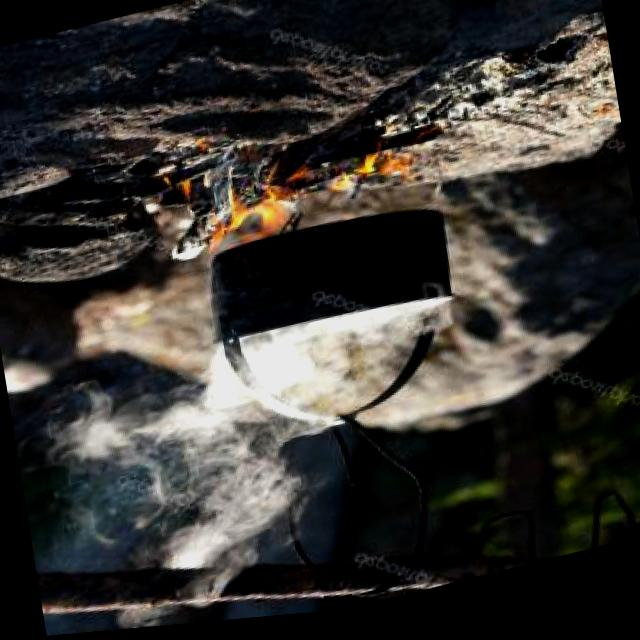helmet: (176, 116, 426, 271)
no_helmet: (135, 298, 488, 597)
